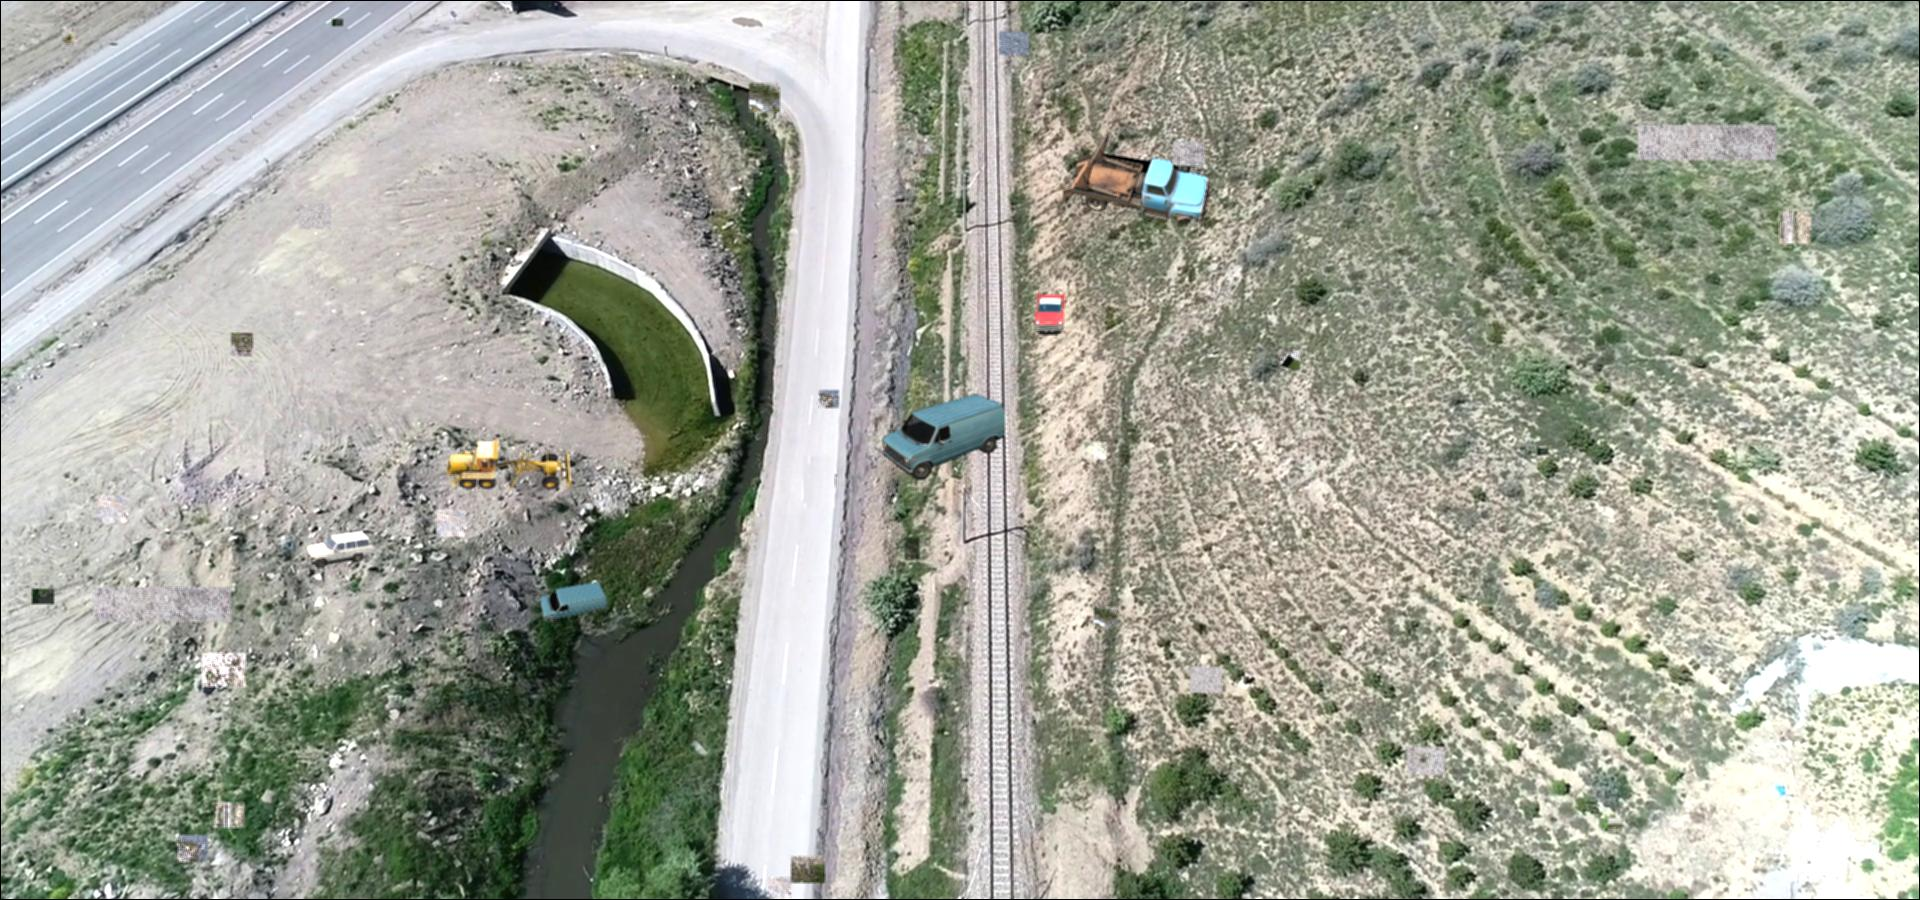arac: (1063, 132, 1213, 227), (880, 392, 1005, 480), (444, 440, 576, 493), (539, 580, 607, 624), (305, 531, 372, 569), (1033, 291, 1067, 336)
